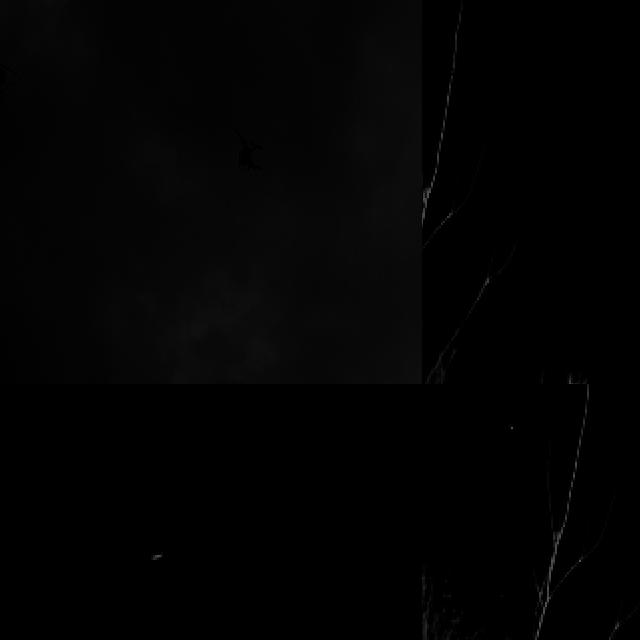0: (500, 416, 526, 446), (494, 88, 516, 113)
1: (140, 546, 174, 576)
drone: (230, 125, 265, 177)
